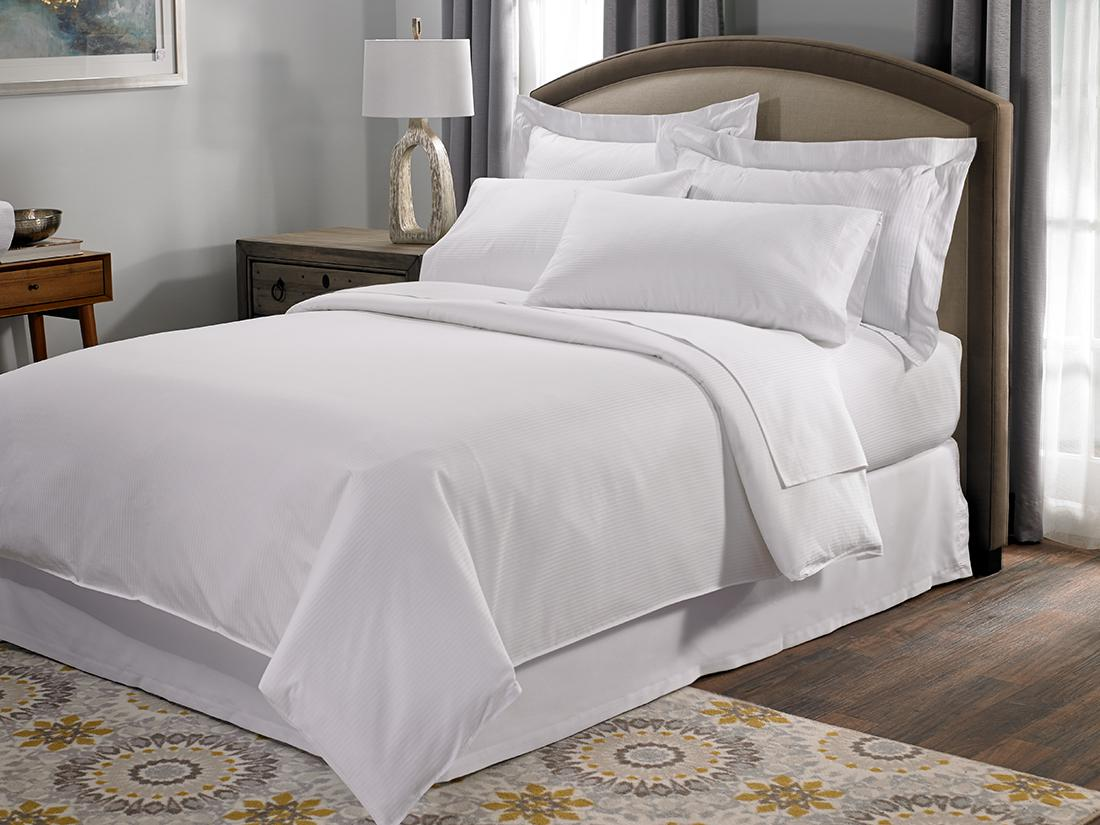bed: (30, 40, 1046, 806)
